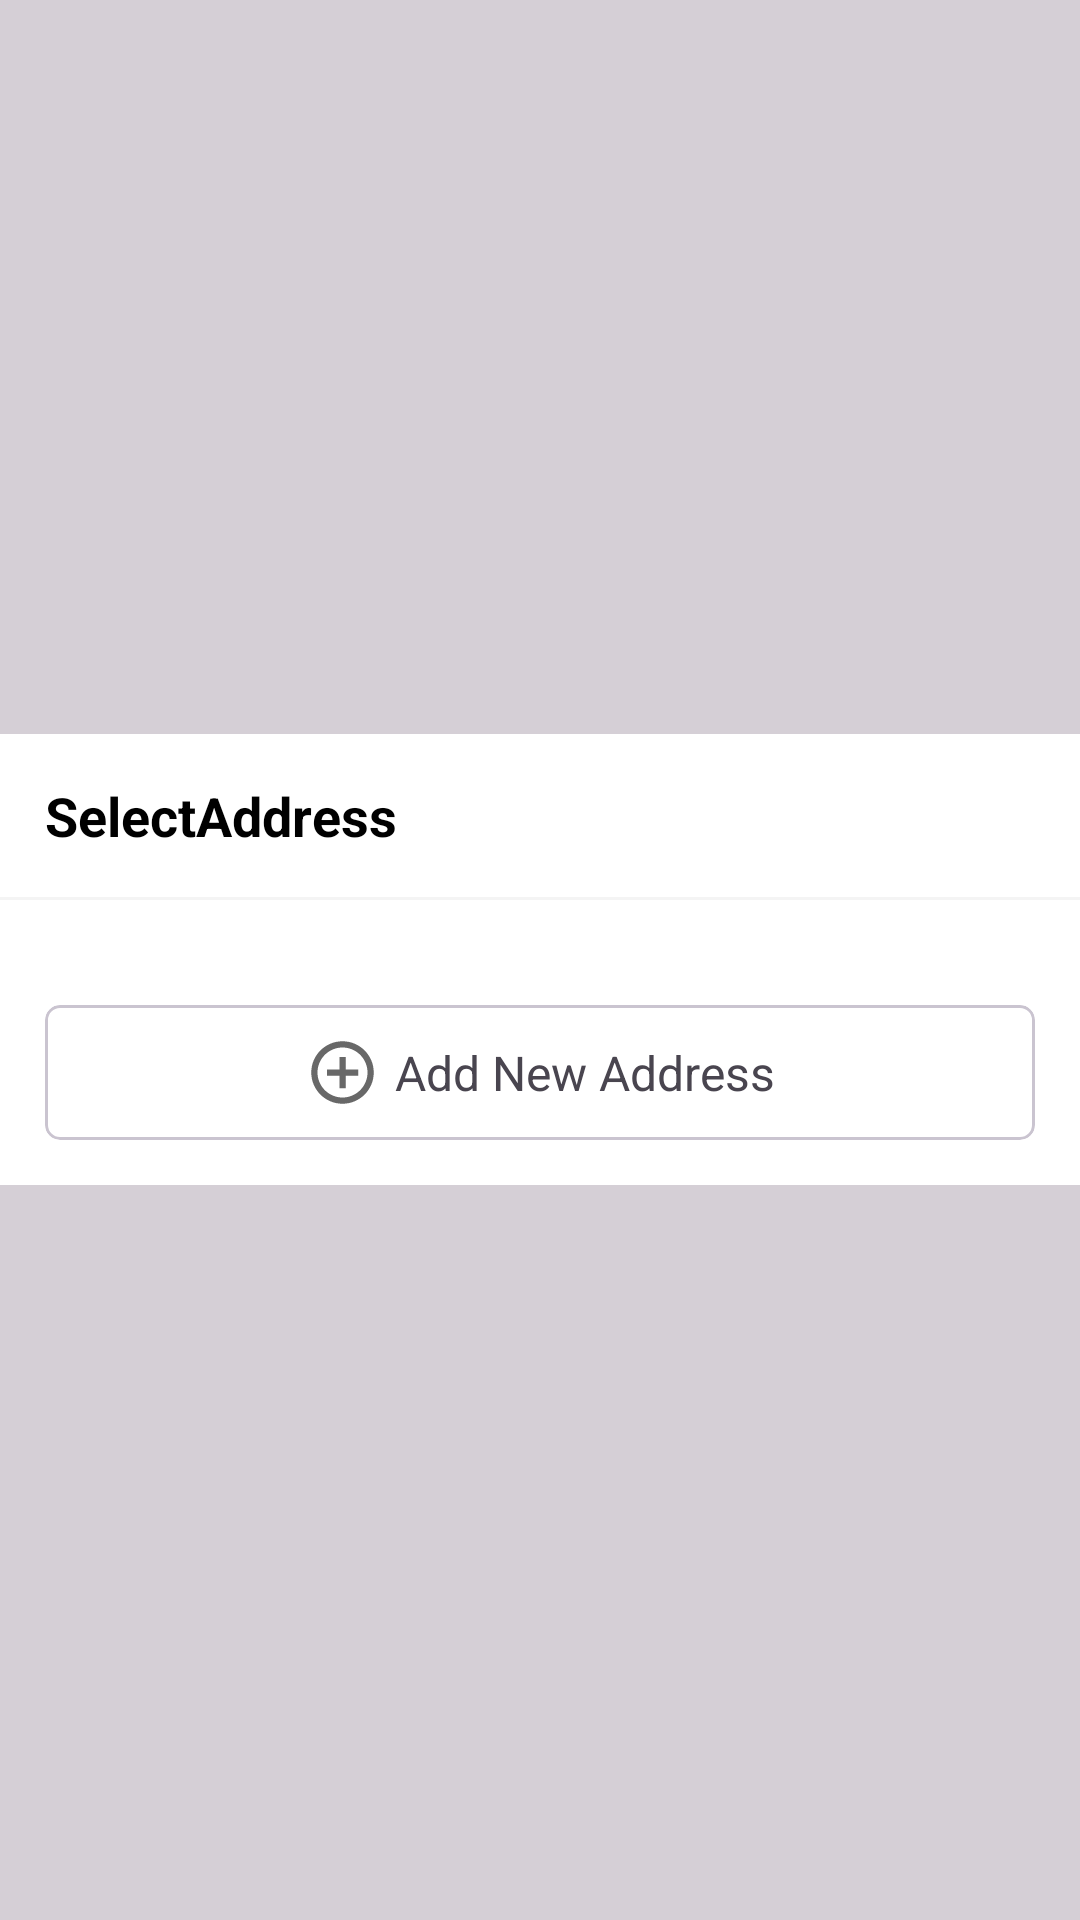

Icon bounding boxes for this 1080px x 1920px phone screenshot, format (x1=x1, y1=y1, x2=x2, y2=y2):
plus: (x1=311, y1=1041, x2=374, y2=1104)
